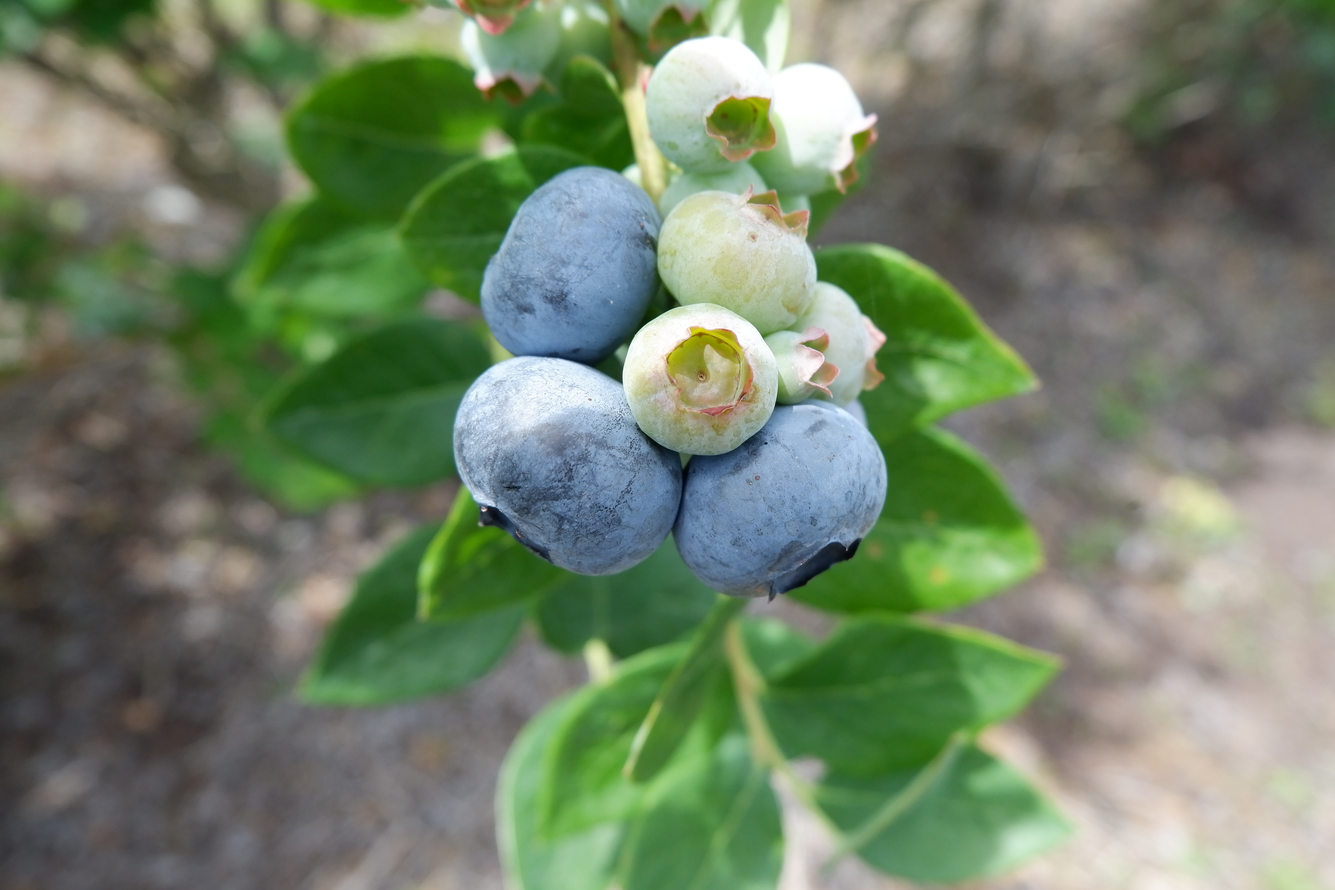Immature: (628, 303, 778, 451), (660, 192, 814, 329), (648, 38, 772, 174), (753, 67, 876, 191), (788, 284, 881, 398), (655, 162, 774, 223), (764, 328, 840, 403)
Mature: (458, 360, 679, 569), (678, 404, 884, 594), (482, 169, 655, 358)
